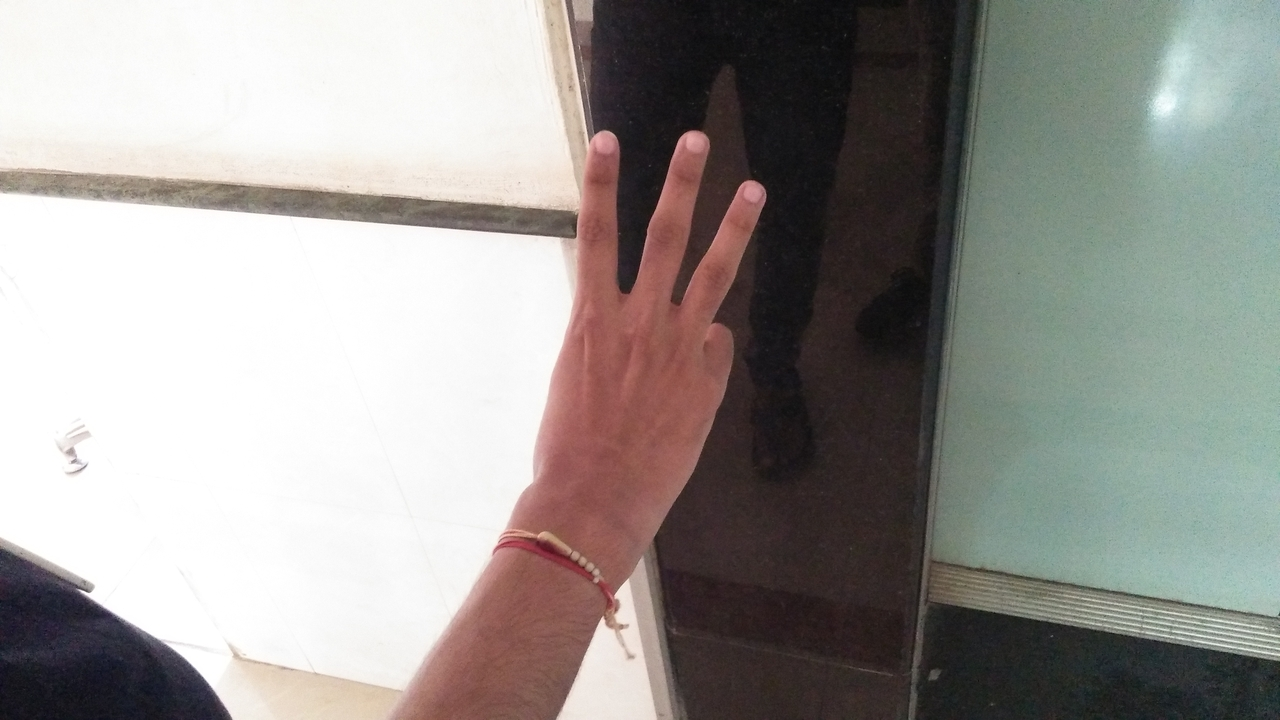fingertip: (718, 170, 772, 220), (662, 118, 718, 166), (578, 122, 626, 164)
